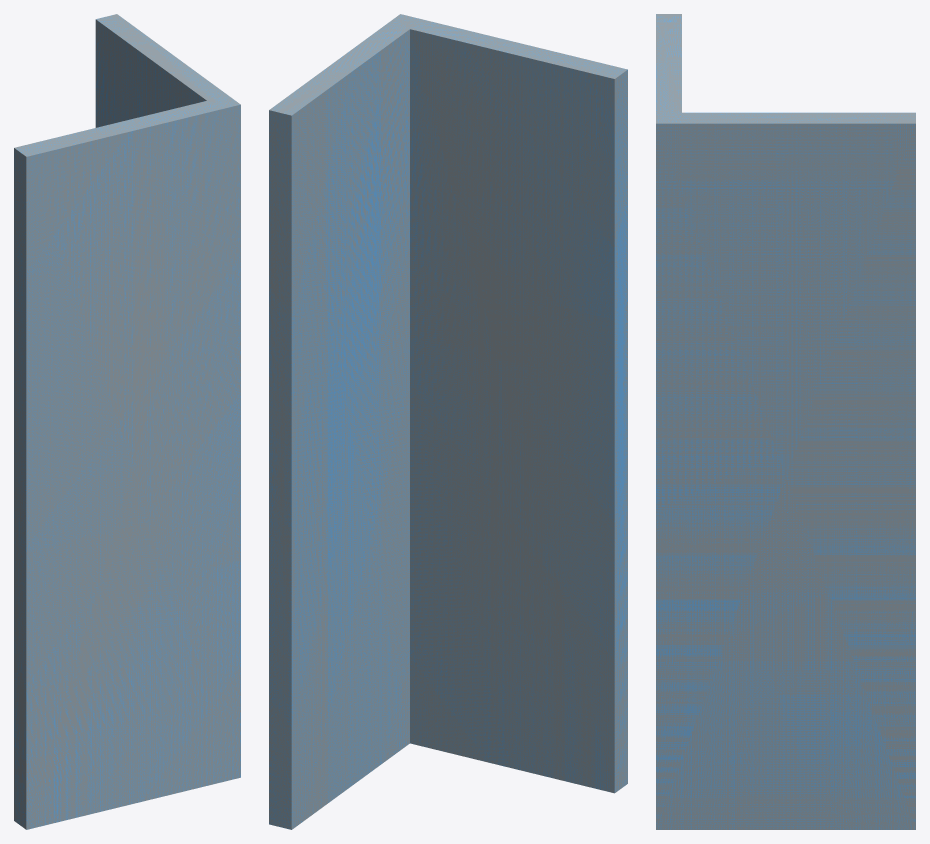
The model's file is Corner.fbx.
3 renders of one model, left to right at view 1: azimuth 30°, elevation 25°; view 2: azimuth 150°, elevation 25°; view 3: azimuth 270°, elevation 25°, orthographic. The views are drawn at different scales.
Parts seen in each view (by area): view 1: Model; view 2: Model; view 3: Model.
Part boxes in pixels (<box>): Model: <box>14,14,240,829</box>; Model: <box>269,14,627,829</box>; Model: <box>656,14,915,829</box>.
Bounding box in the file's own units: 120 × 360 × 120.
